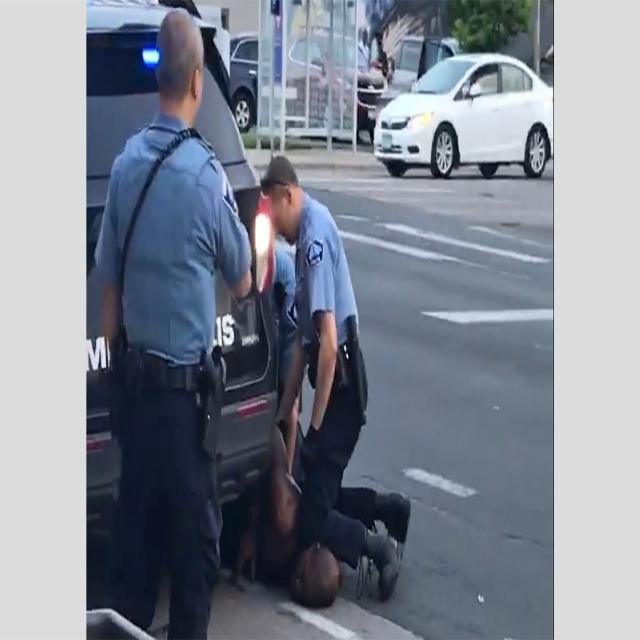police: (91, 2, 238, 640), (253, 140, 418, 594)
